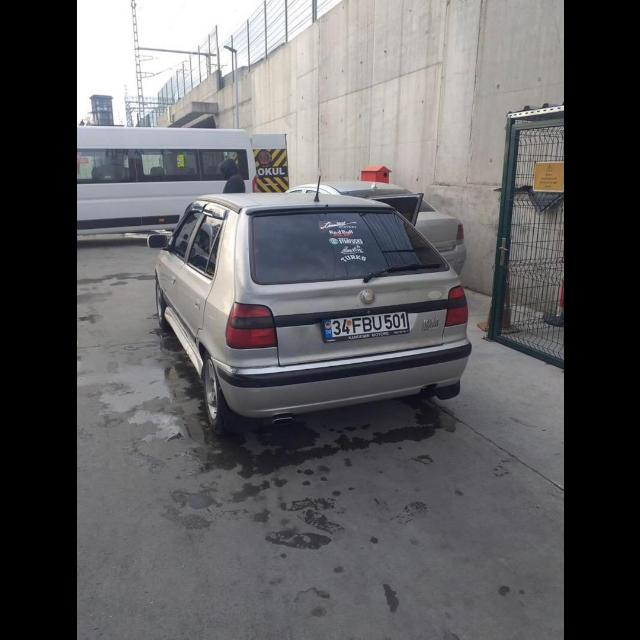Plaka: (326, 314, 408, 340)
